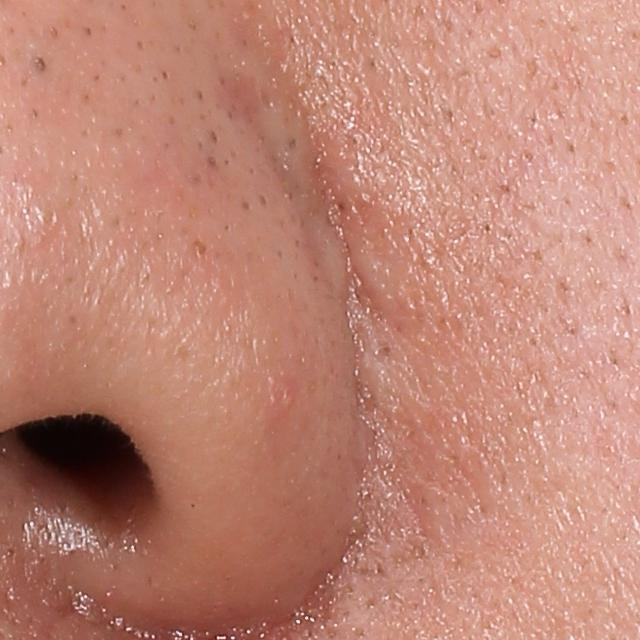comedo: (26, 54, 52, 75), (238, 195, 252, 215)
